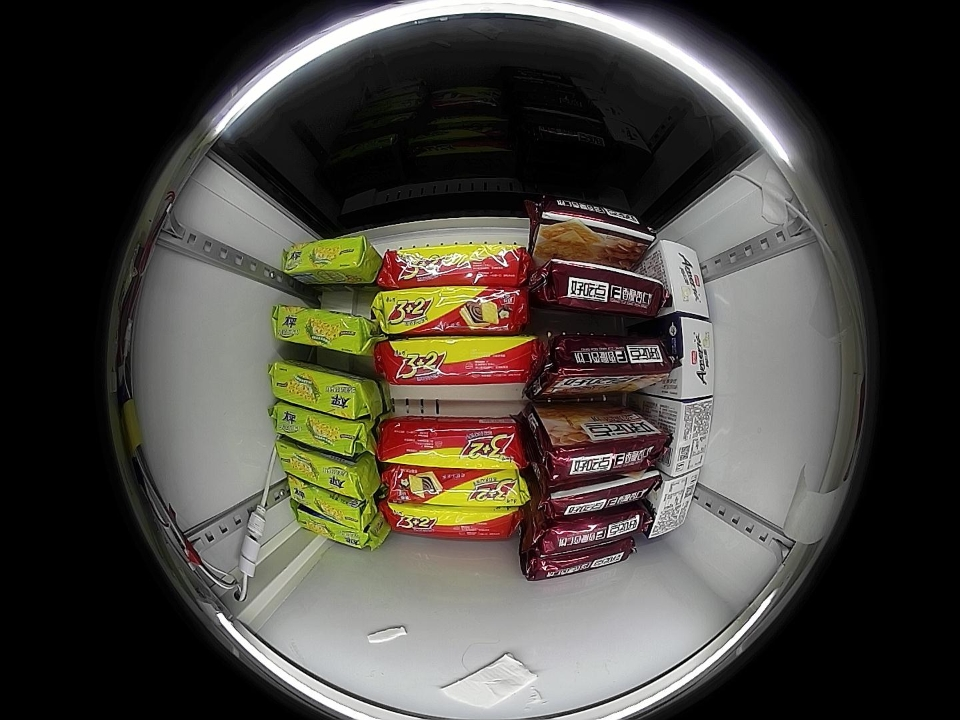3jia2: (379, 335, 533, 388), (372, 286, 528, 336), (381, 417, 522, 469), (379, 244, 529, 288), (385, 467, 529, 506), (386, 502, 518, 539)
haochidian: (538, 329, 672, 393), (534, 257, 663, 318), (526, 197, 656, 257), (539, 419, 663, 481), (529, 508, 648, 551), (540, 472, 658, 515), (521, 541, 636, 580)
meiniye: (650, 239, 710, 319), (659, 315, 715, 400), (657, 397, 715, 477), (640, 468, 700, 541)
taipingshuda: (269, 362, 375, 418), (277, 441, 374, 500), (270, 304, 374, 355), (273, 404, 372, 457), (281, 234, 377, 284), (290, 479, 370, 526), (294, 512, 381, 550)
